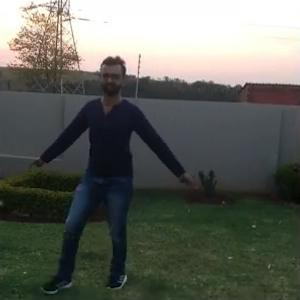land: (61, 73, 172, 236)
